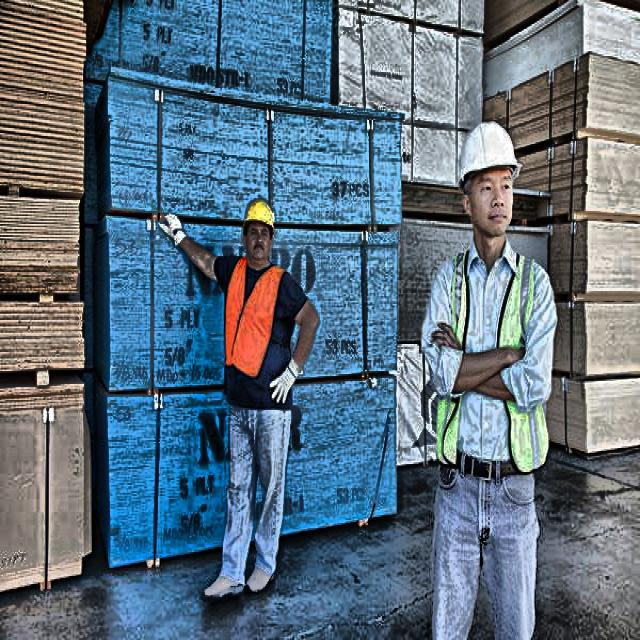helmet: (449, 110, 528, 248), (237, 186, 280, 270)
